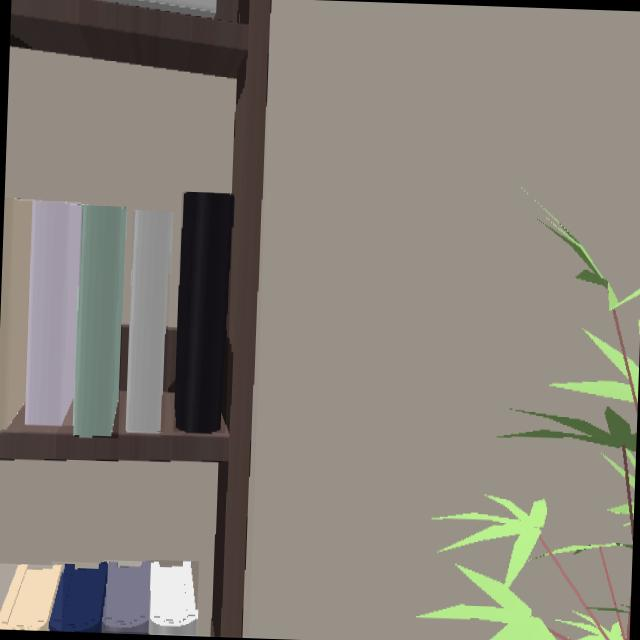book: (176, 192, 233, 432), (25, 200, 81, 425), (74, 205, 126, 436), (126, 210, 171, 431), (49, 563, 107, 632), (0, 566, 62, 629), (149, 561, 196, 635), (102, 562, 149, 632)
shelf: (0, 0, 271, 635)
